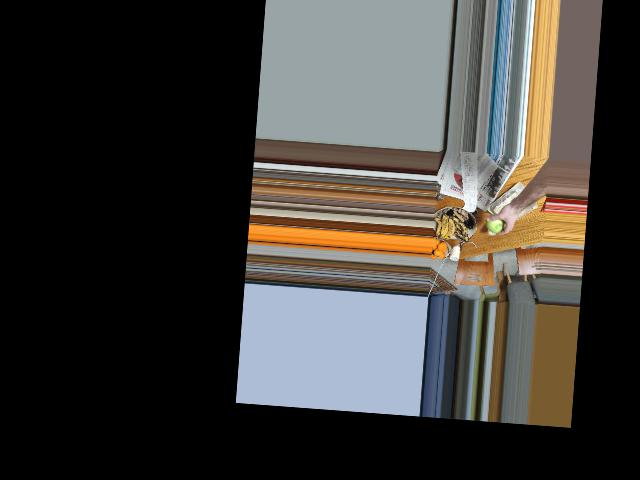apple: (485, 213, 505, 234)
